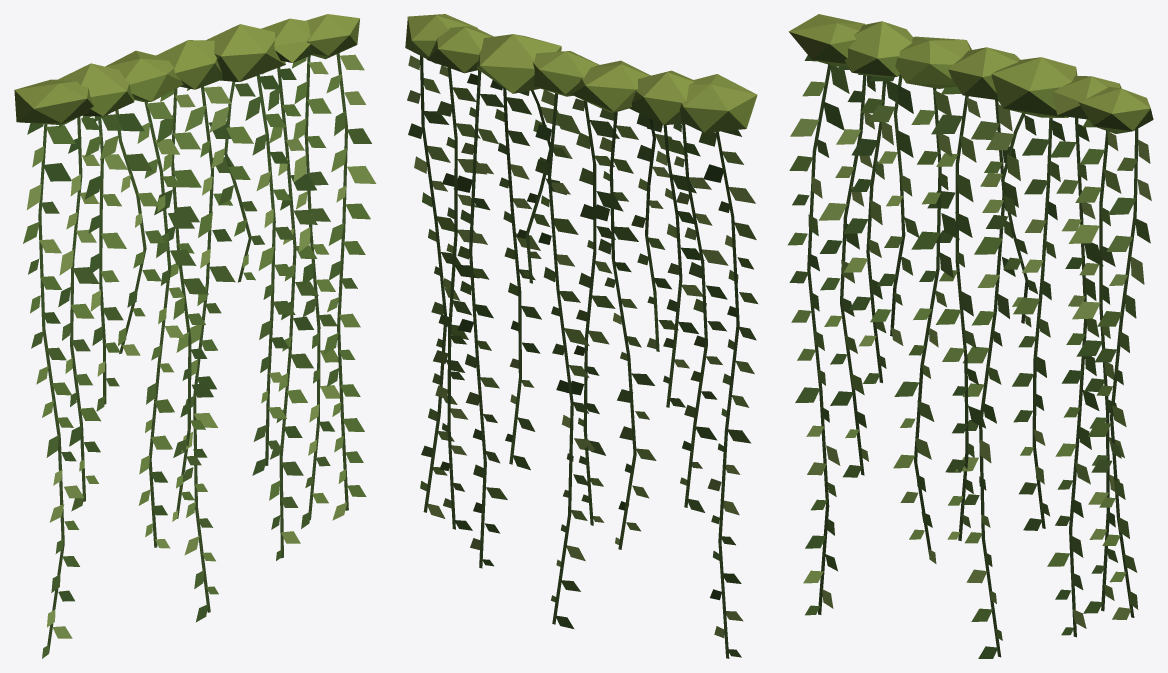
Rendered from wf_vines.glb.
3 views of the same model, side by side, from view 1: azimuth 30°, elevation 25°; view 2: azimuth 150°, elevation 25°; view 3: azimuth 330°, elevation 25° (orthographic). The views are drawn at different scales.
Visible parts, largest first — view 1: wf_vines; view 2: wf_vines; view 3: wf_vines.
Boxes of the visible parts, x1,y1,x2,y2 form: wf_vines: (14,14,376,658); wf_vines: (405,14,758,658); wf_vines: (788,14,1153,658).
Size of the model in its own units: 3.29 by 5.26 by 0.7345.
